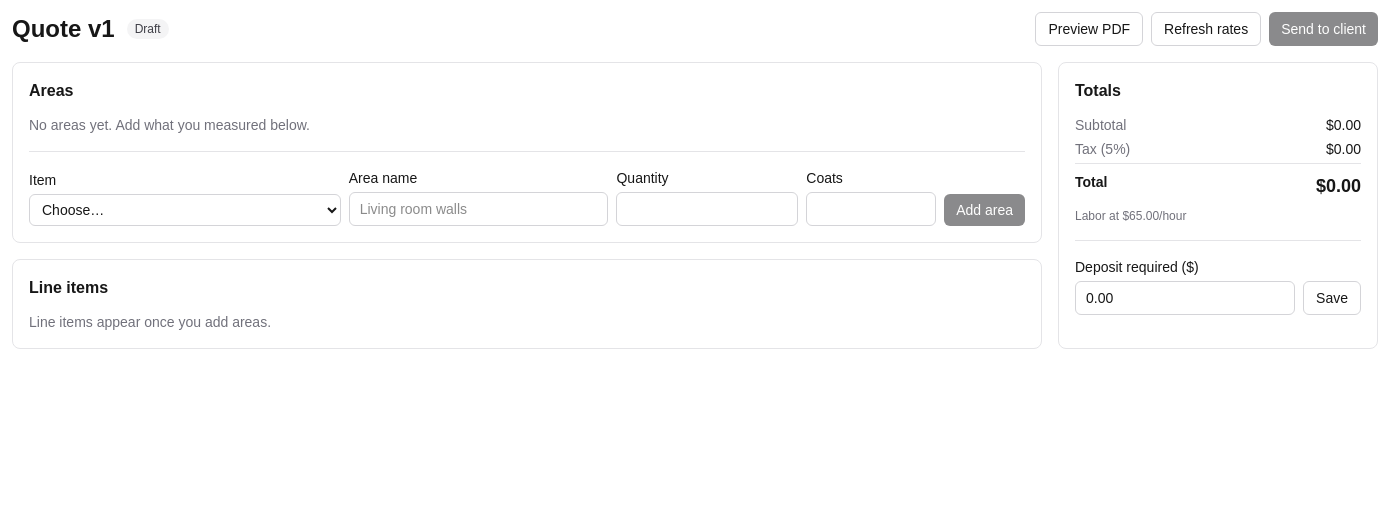
Test: QuoteBuilder › adding an area sends exact strings and shows the server's totals
This screenshot has width=1390, height=527.
Expected: the text with test id "total" reads "$0.00", [1316, 176, 1361, 196]
Select "Walls" in the dropdown at coordinates (185, 210), box [29, 194, 341, 226]
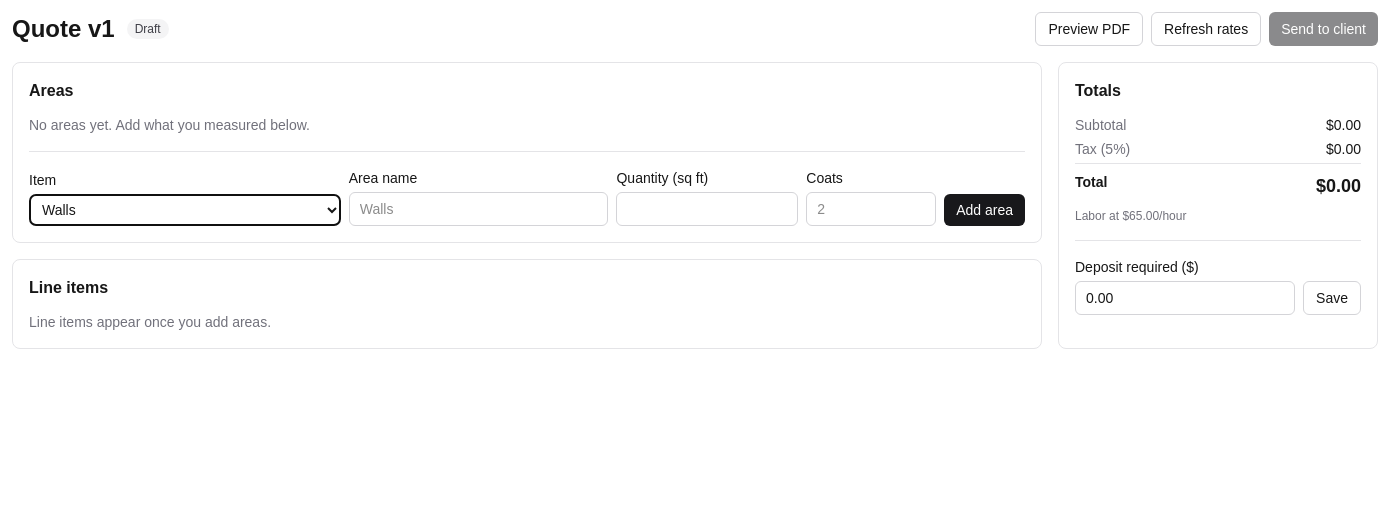
Type "Living room walls" into the field labelled "Area name".
click(479, 209); type("Living room walls")  # box [349, 192, 608, 226]
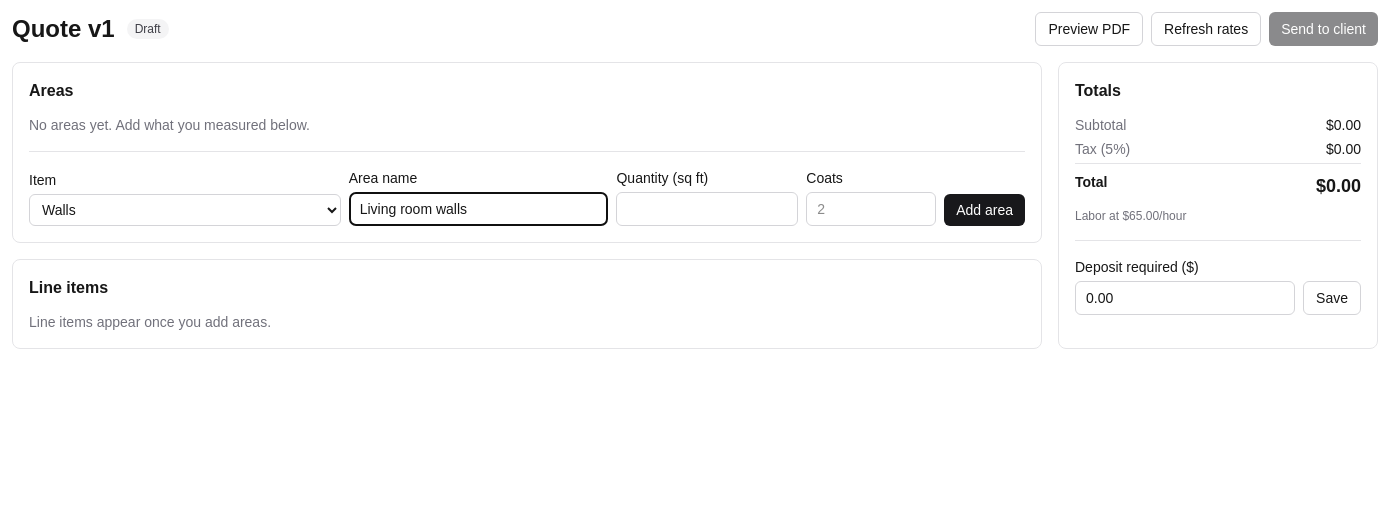
Type "420" into the field labelled "Quantity (sq ft)".
click(707, 209); type("420")  # box [616, 192, 798, 226]
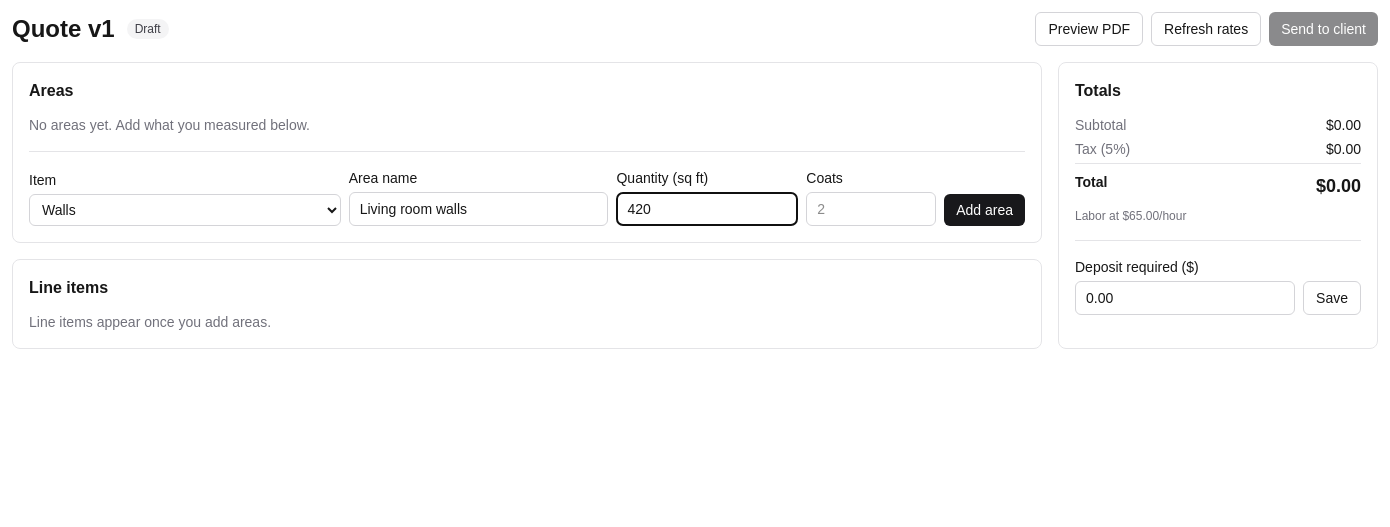
Click the button "Add area".
click(985, 210)  # box [944, 194, 1025, 226]
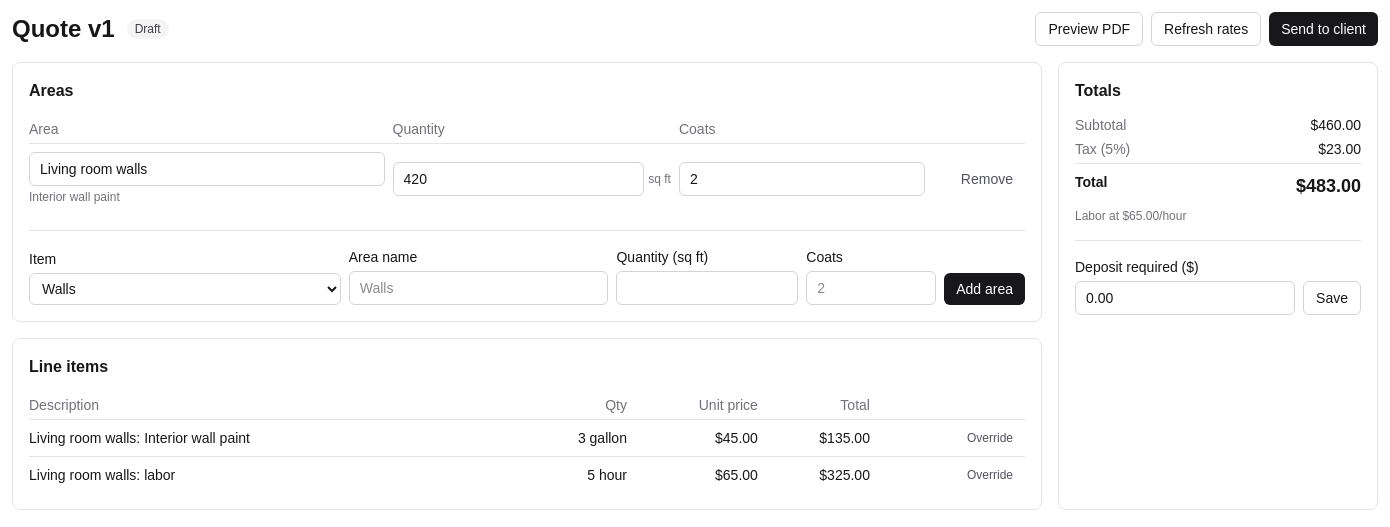
Now the text "Living room walls: Interior wall paint" is shown, box [29, 420, 518, 456]
